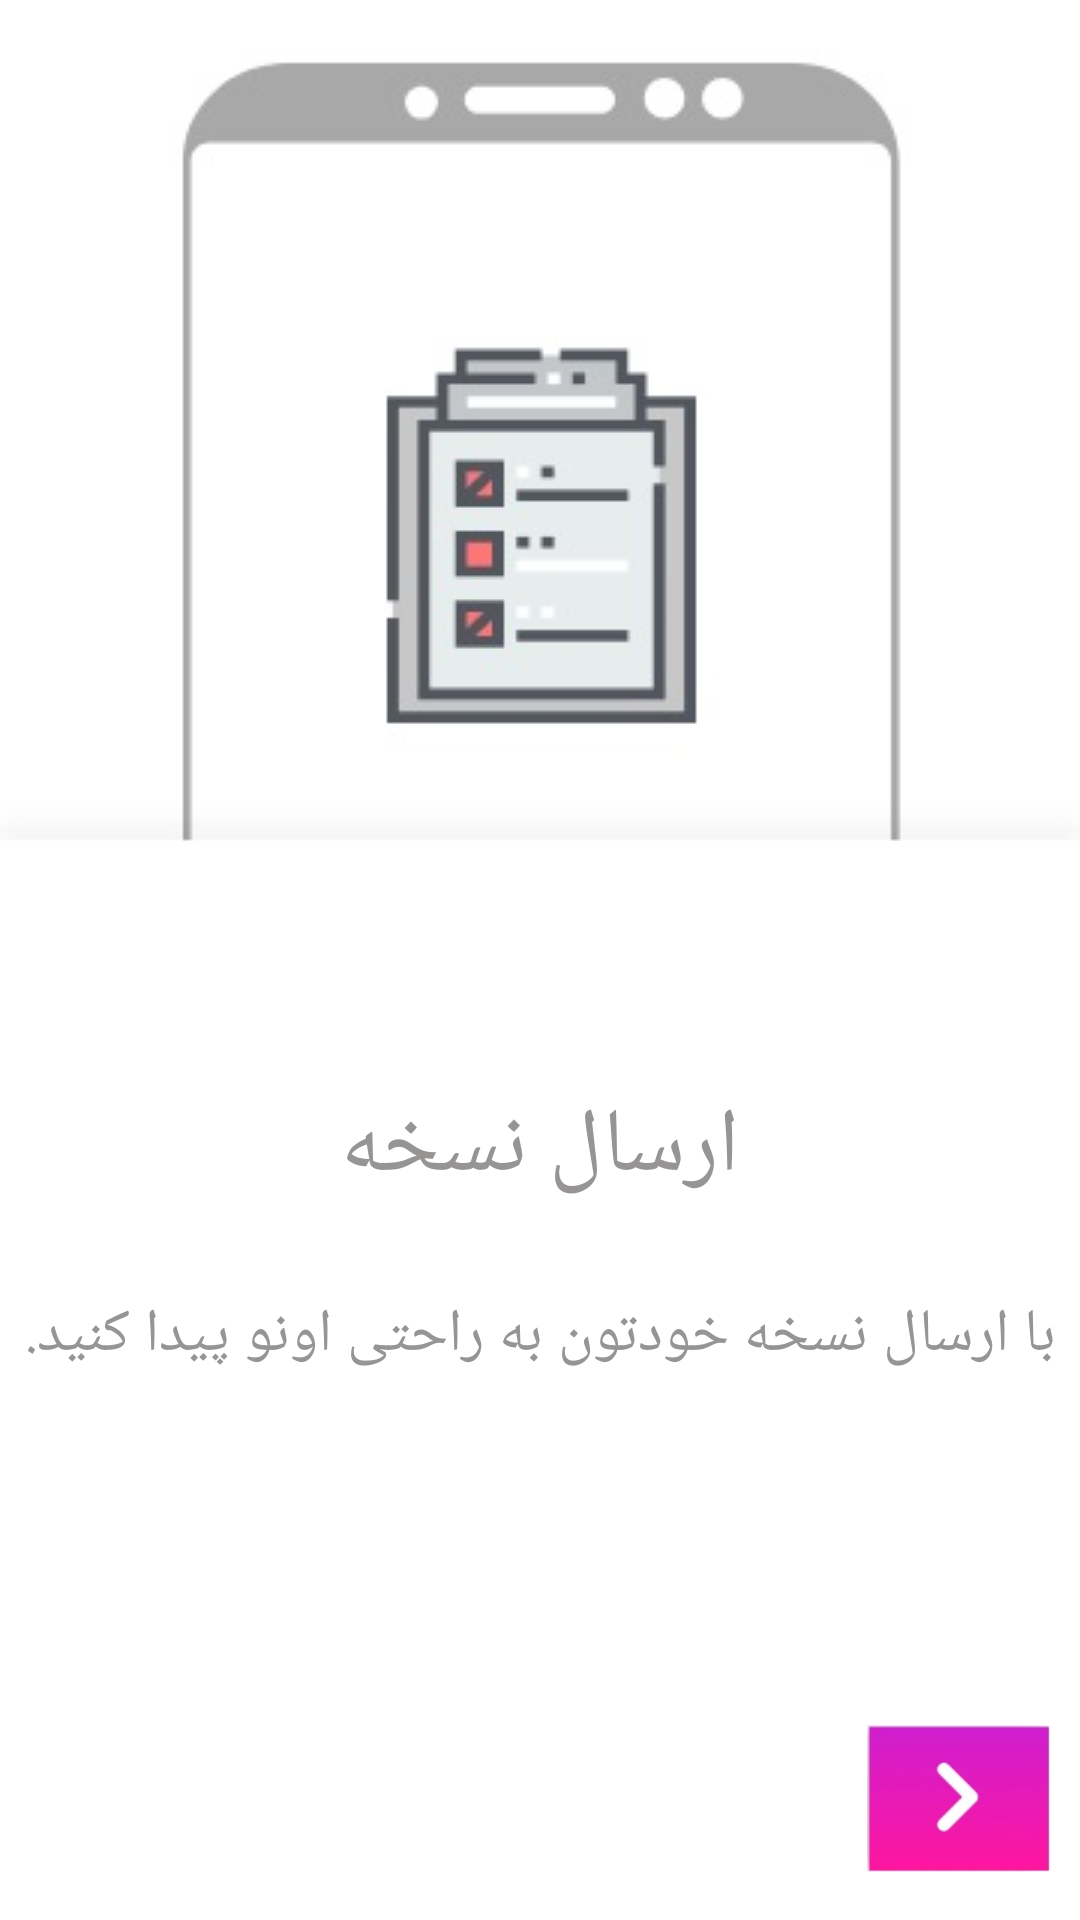

Point at icon controls on the screen. Image size 1080×1920, points as [x,y].
arr: [958,1798]
